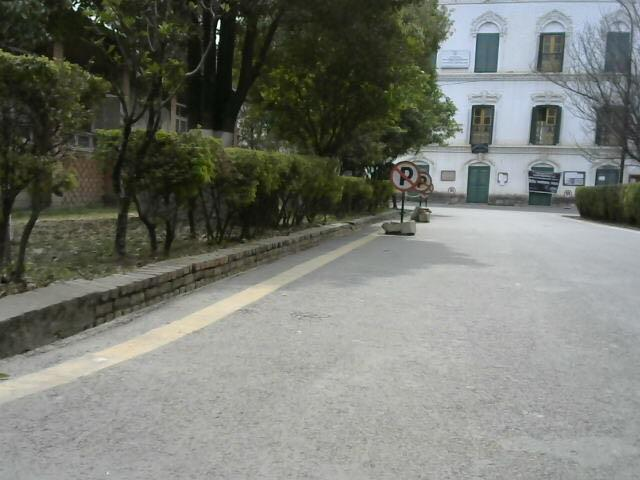Building: (444, 3, 640, 218)
Road: (5, 221, 640, 480)
Traffic sign: (379, 158, 440, 244), (561, 188, 579, 218)
Tree: (1, 3, 389, 255), (1, 52, 79, 294)
